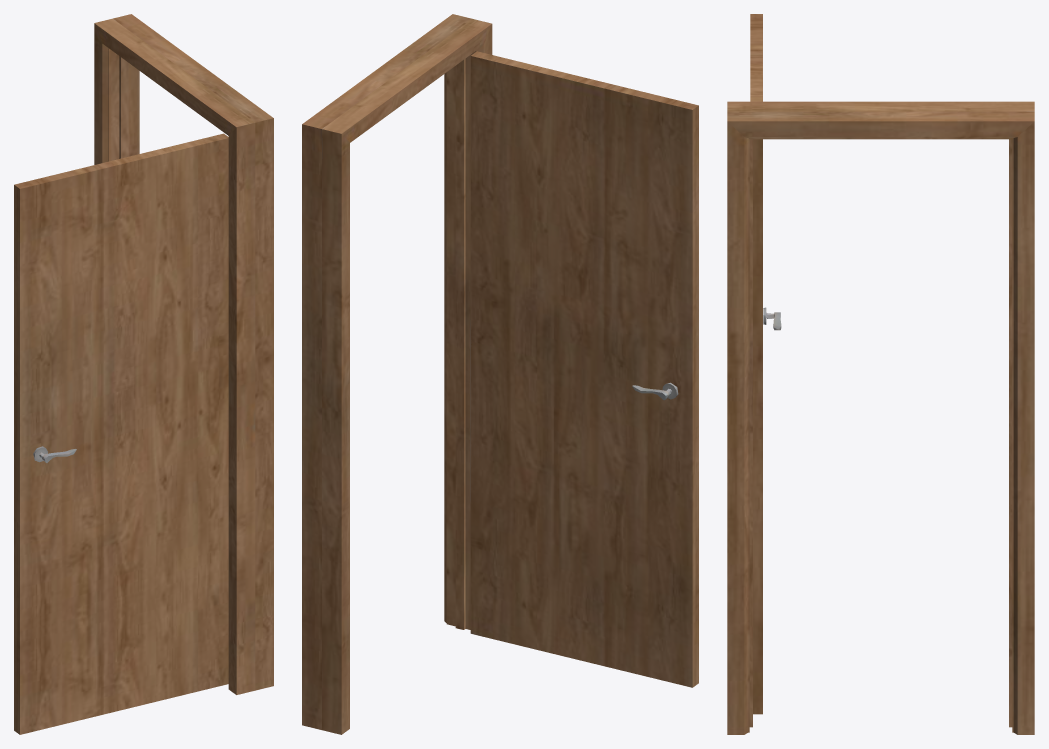
Rendered from Door0018open.obj.
The picture shows the model from 3 angles, left to right: view 1: azimuth 30°, elevation 25°; view 2: azimuth 150°, elevation 25°; view 3: azimuth 270°, elevation 25°; orthographic projection. The views are drawn at different scales.
Size of the model in its own units: 0.951 by 2.12 by 0.964.
1 material, 1 textured.
